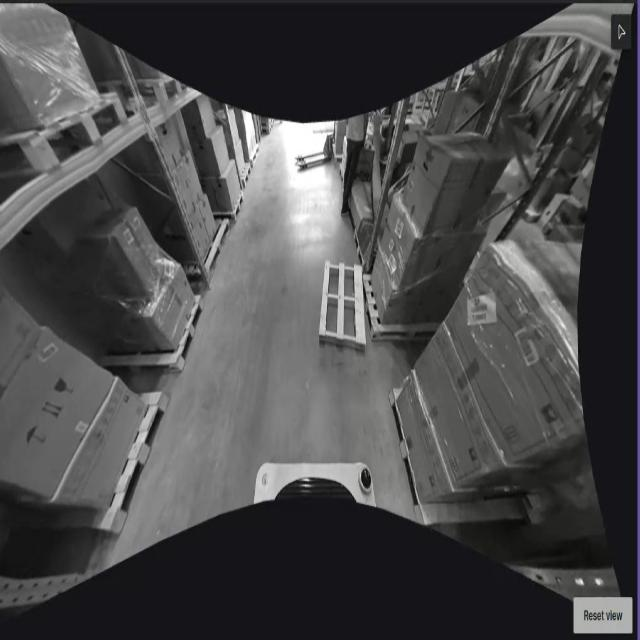Pallets-and-forklifts: (29, 394, 174, 537), (16, 91, 132, 175), (111, 294, 207, 376), (319, 261, 365, 353), (201, 219, 233, 291)
forlift: (293, 133, 334, 176)
